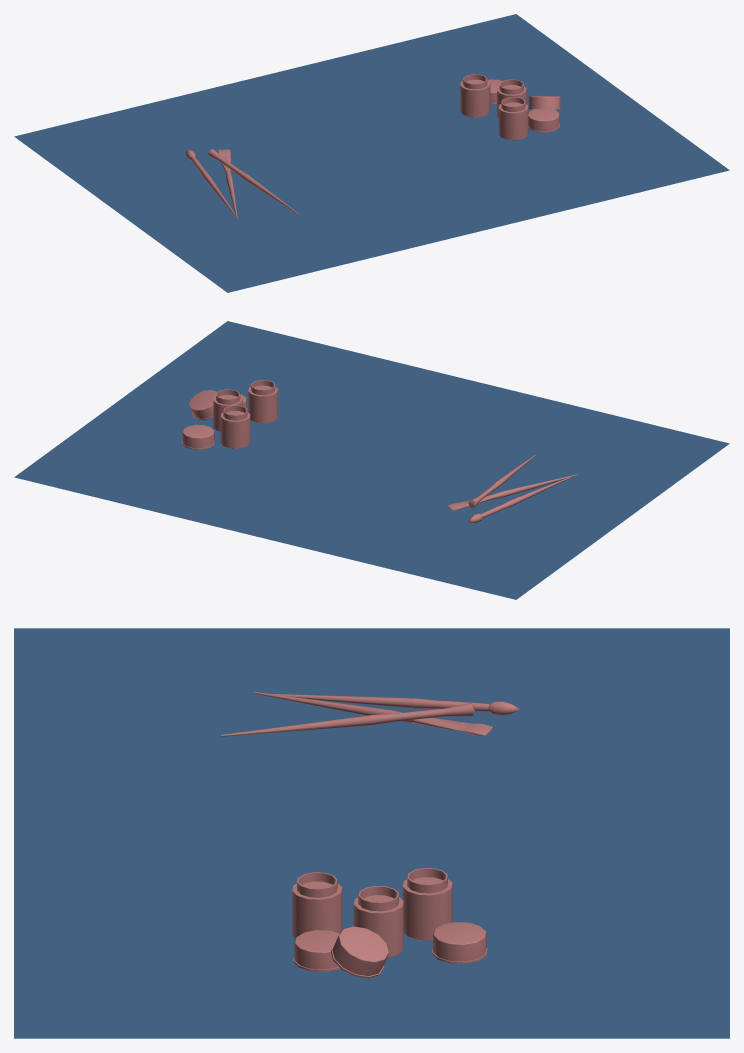
Rendered from tasks.fbx.
3 views of the same model, one above another, from view 1: azimuth 30°, elevation 25°; view 2: azimuth 150°, elevation 25°; view 3: azimuth 270°, elevation 25° (orthographic). The views are drawn at different scales.
Parts seen in each view (by area): view 1: table, paper, bottle, bottle.002, cover.002, bottle.001, brush_03, cover.001; view 2: table, paper, bottle, bottle.002, cover, bottle.001, cover.001, brush_01, brush_02; view 3: table, paper, bottle, bottle.002, bottle.001, cover.001, cover, brush_03, brush_02, brush_01, cover.002.
Boxes of the visible parts, x1,y1,x2,y2 form: table: [14, 14, 729, 292]; paper: [229, 97, 514, 208]; bottle: [460, 74, 490, 117]; bottle.002: [498, 97, 528, 140]; cover.002: [528, 109, 560, 132]; bottle.001: [497, 79, 526, 118]; brush_03: [208, 149, 299, 214]; cover.001: [528, 95, 561, 109]; table: [14, 321, 729, 599]; paper: [229, 404, 514, 515]; bottle: [220, 405, 250, 448]; bottle.002: [248, 380, 277, 423]; cover: [182, 424, 215, 449]; bottle.001: [213, 389, 242, 431]; cover.001: [189, 389, 216, 420]; brush_01: [446, 474, 577, 510]; brush_02: [468, 477, 570, 523]; table: [14, 628, 729, 1038]; paper: [228, 750, 515, 914]; bottle: [402, 868, 452, 940]; bottle.002: [292, 872, 342, 938]; bottle.001: [353, 886, 403, 957]; cover.001: [331, 926, 388, 978]; cover: [432, 922, 487, 963]; brush_03: [221, 703, 474, 736]; brush_02: [270, 693, 520, 715]; brush_01: [253, 691, 493, 735]; cover.002: [293, 930, 340, 971].
Bounding box in the file's own units: 2375 × 148 × 1750.
